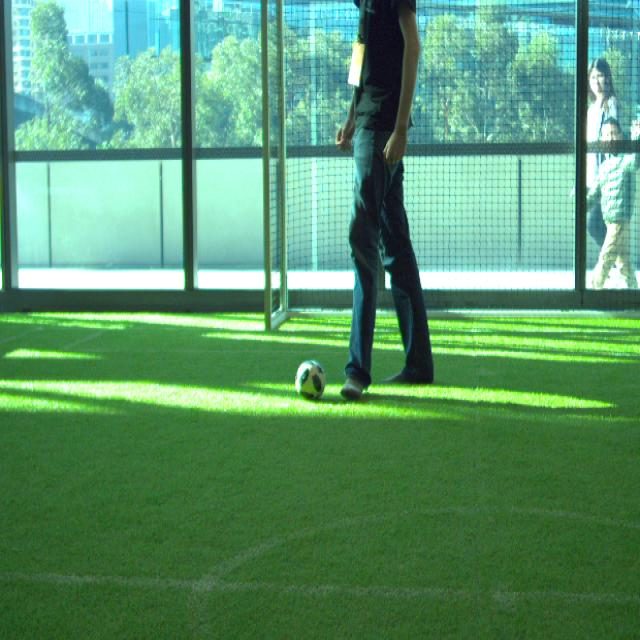ball: (294, 360, 326, 400)
goalpost: (262, 1, 272, 334)
